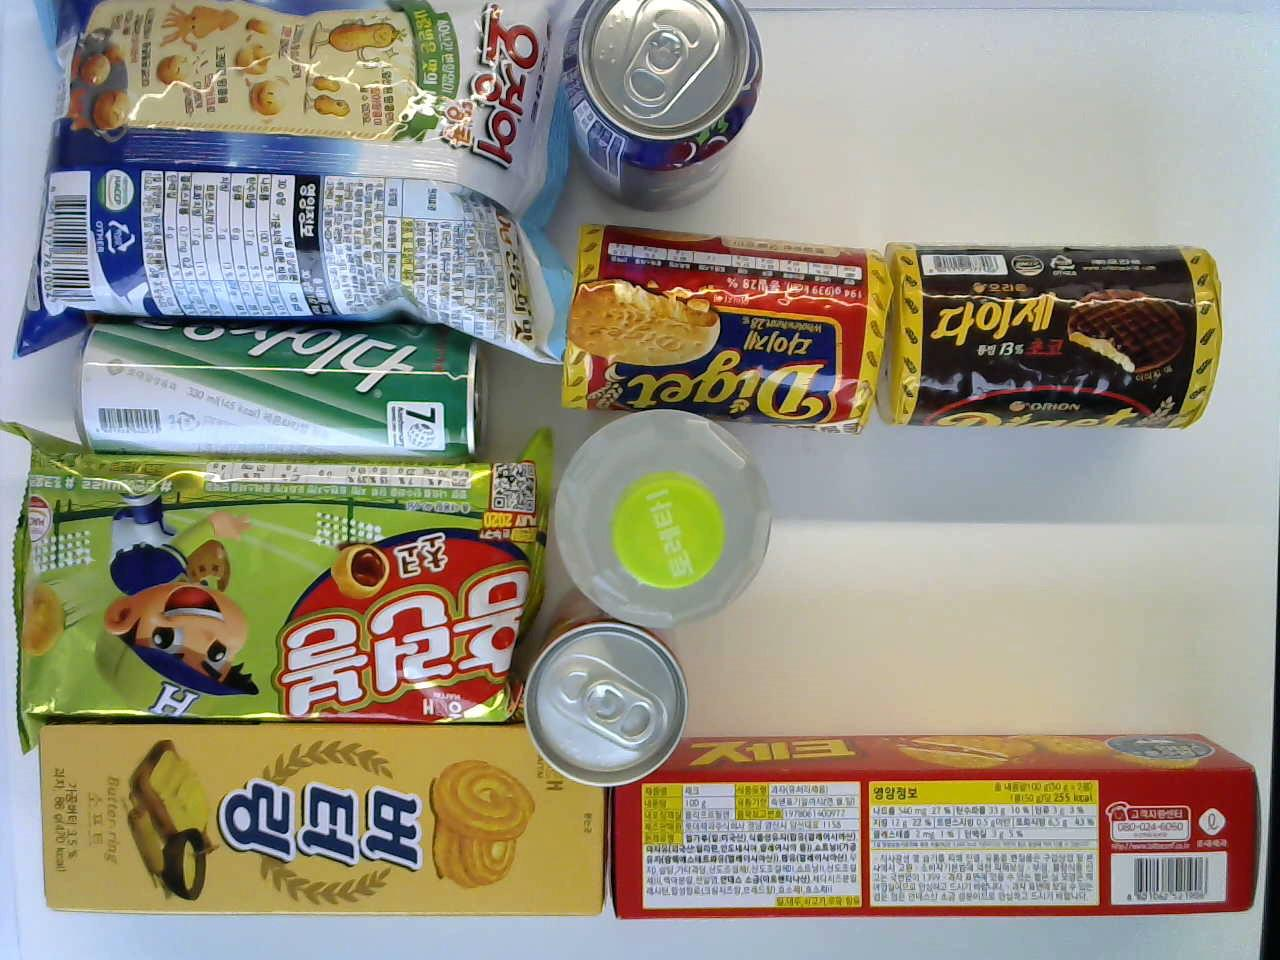buttering: (38, 724, 611, 909)
cidar: (83, 325, 474, 447)
coke: (524, 620, 685, 781)
diget_choco: (891, 244, 1223, 430)
diget_ori: (563, 223, 891, 433)
homerunball: (18, 456, 533, 724)
squid_peanut: (11, 0, 575, 366)
toreta: (557, 408, 767, 624)
welchs: (569, 2, 763, 211)
zec: (617, 732, 1258, 912)
